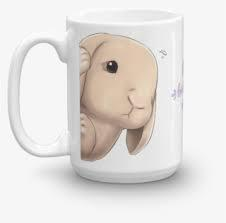cup: (7, 7, 185, 185)
